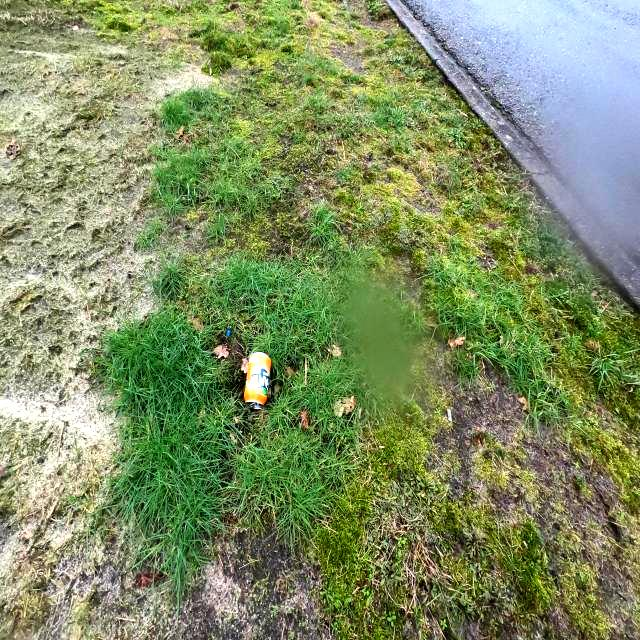Metal: (242, 352, 272, 410)
